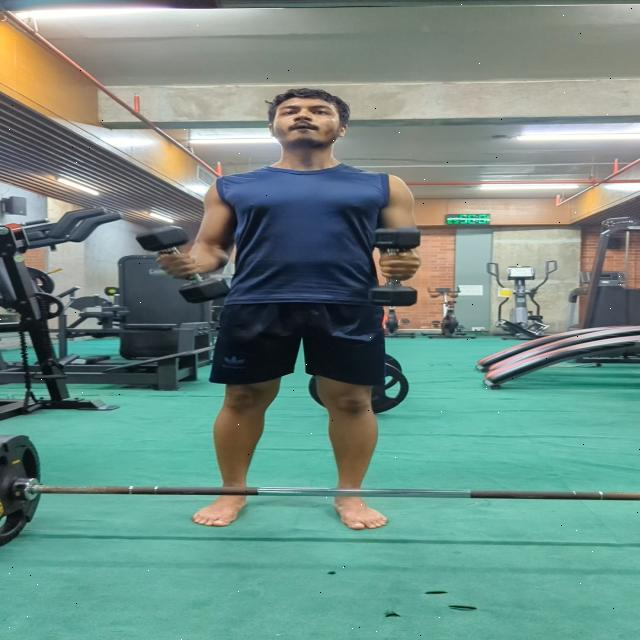Normal_DumbbellBicepCurls: (134, 84, 426, 541)
